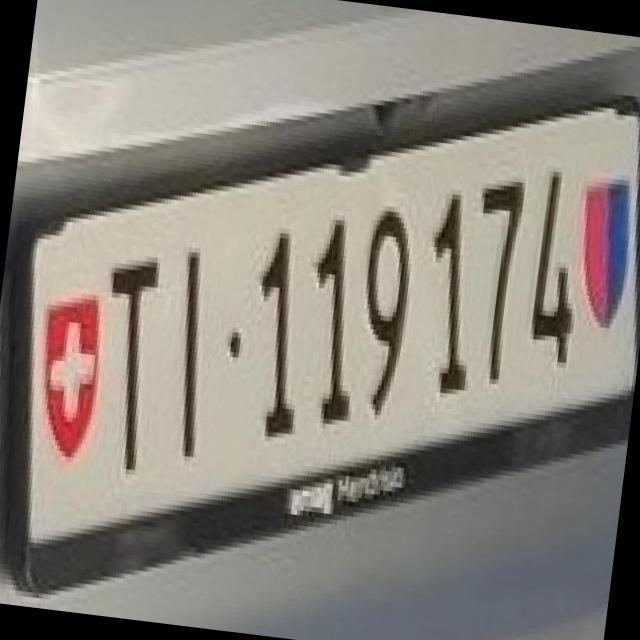1: (219, 204, 321, 444), (275, 186, 371, 430), (397, 166, 493, 406), (144, 224, 232, 453)
4: (510, 148, 600, 364)
7: (448, 156, 539, 382)
9: (328, 181, 426, 412)
T: (73, 231, 175, 471)
